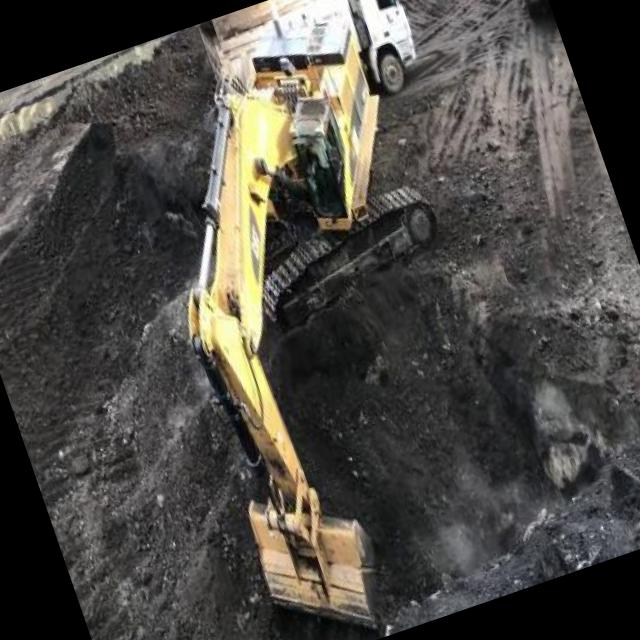Dump Truck: (191, 0, 430, 144), (491, 0, 557, 61)
Excavator: (88, 0, 562, 640)
